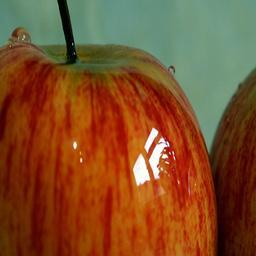apple: (1, 39, 218, 254)
